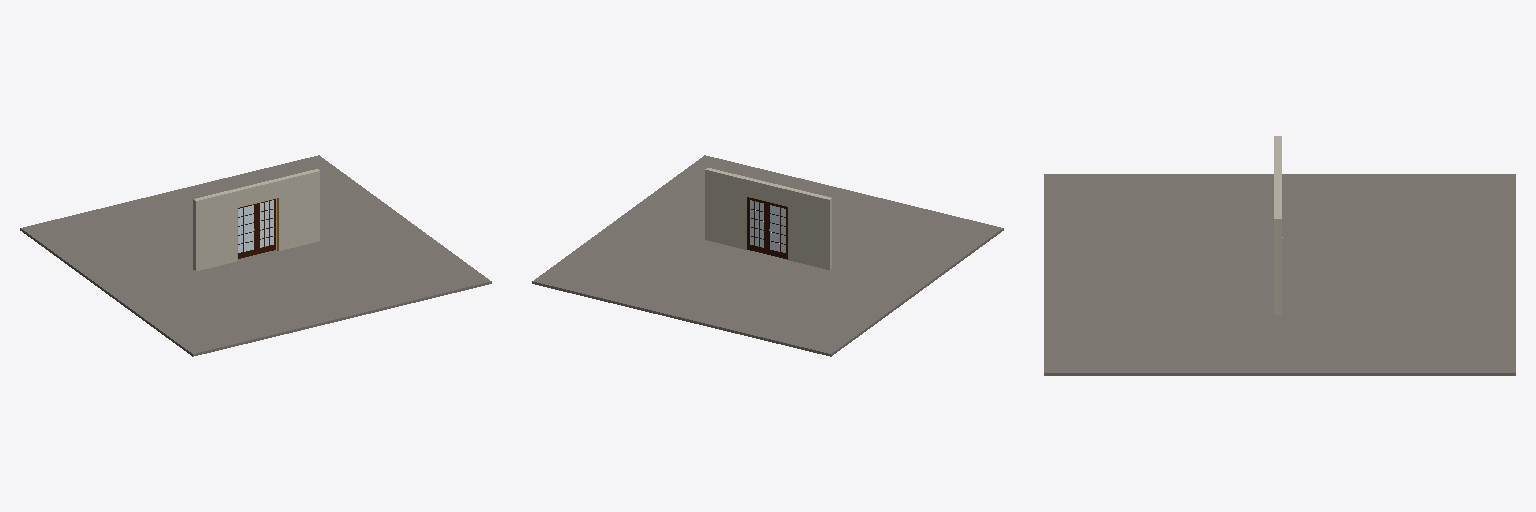
URDF robot description (db0604_swing_double_minimal):
<?xml version="1.0" ?>
<robot xmlns:doorbench="https://github.com/adamraudonis/DoorBench/schema/urdf-ext" name="db0604_swing_double_minimal">
  <link name="world_env">
    <visual name="floor_vis">
      <origin xyz="0 0 -0.05" rpy="0 0 0"/>
      <geometry>
        <box size="12 12 0.1"/>
      </geometry>
      <material name="mat_floor"/>
    </visual>
    <collision name="floor_col">
      <origin xyz="0 0 -0.05" rpy="0 0 0"/>
      <geometry>
        <box size="12 12 0.1"/>
      </geometry>
    </collision>
    <visual name="wall_left_vis">
      <origin xyz="-1.66825 -0.058 1.35" rpy="0 0 0"/>
      <geometry>
        <box size="1.6635 0.2 2.7"/>
      </geometry>
      <material name="mat_wall"/>
    </visual>
    <collision name="wall_left_col">
      <origin xyz="-1.66825 -0.058 1.35" rpy="0 0 0"/>
      <geometry>
        <box size="1.6635 0.2 2.7"/>
      </geometry>
    </collision>
    <visual name="wall_right_vis">
      <origin xyz="1.66825 -0.058 1.35" rpy="0 0 0"/>
      <geometry>
        <box size="1.6635 0.2 2.7"/>
      </geometry>
      <material name="mat_wall"/>
    </visual>
    <collision name="wall_right_col">
      <origin xyz="1.66825 -0.058 1.35" rpy="0 0 0"/>
      <geometry>
        <box size="1.6635 0.2 2.7"/>
      </geometry>
    </collision>
    <visual name="wall_header_vis">
      <origin xyz="0 -0.058 2.397" rpy="0 0 0"/>
      <geometry>
        <box size="1.673 0.2 0.606"/>
      </geometry>
      <material name="mat_wall"/>
    </visual>
    <collision name="wall_header_col">
      <origin xyz="0 -0.058 2.397" rpy="0 0 0"/>
      <geometry>
        <box size="1.673 0.2 0.606"/>
      </geometry>
    </collision>
    <visual name="jamb_l_vis">
      <origin xyz="-0.827 -0.058 1.0225" rpy="0 0 0"/>
      <geometry>
        <box size="0.019 0.2 2.045"/>
      </geometry>
      <material name="mat_frame"/>
    </visual>
    <collision name="jamb_l_col">
      <origin xyz="-0.827 -0.058 1.0225" rpy="0 0 0"/>
      <geometry>
        <box size="0.019 0.2 2.045"/>
      </geometry>
    </collision>
    <visual name="jamb_r_vis">
      <origin xyz="0.827 -0.058 1.0225" rpy="0 0 0"/>
      <geometry>
        <box size="0.019 0.2 2.045"/>
      </geometry>
      <material name="mat_frame"/>
    </visual>
    <collision name="jamb_r_col">
      <origin xyz="0.827 -0.058 1.0225" rpy="0 0 0"/>
      <geometry>
        <box size="0.019 0.2 2.045"/>
      </geometry>
    </collision>
    <visual name="jamb_head_vis">
      <origin xyz="0 -0.058 2.0545" rpy="0 0 0"/>
      <geometry>
        <box size="1.673 0.2 0.019"/>
      </geometry>
      <material name="mat_frame"/>
    </visual>
    <collision name="jamb_head_col">
      <origin xyz="0 -0.058 2.0545" rpy="0 0 0"/>
      <geometry>
        <box size="1.673 0.2 0.019"/>
      </geometry>
    </collision>
    <visual name="head_stud_vis">
      <origin xyz="0 -0.058 2.079" rpy="0 0 0"/>
      <geometry>
        <box size="1.673 0.2 0.03"/>
      </geometry>
      <material name="mat_wall"/>
    </visual>
    <collision name="head_stud_col">
      <origin xyz="0 -0.058 2.079" rpy="0 0 0"/>
      <geometry>
        <box size="1.673 0.2 0.03"/>
      </geometry>
    </collision>
    <visual name="stop_l_vis">
      <origin xyz="-0.8025 -0.0285 1.0225" rpy="0 0 0"/>
      <geometry>
        <box size="0.03 0.012 2.045"/>
      </geometry>
      <material name="mat_frame"/>
    </visual>
    <collision name="stop_l_col">
      <origin xyz="-0.8025 -0.0285 1.0225" rpy="0 0 0"/>
      <geometry>
        <box size="0.03 0.012 2.045"/>
      </geometry>
    </collision>
    <visual name="stop_r_vis">
      <origin xyz="0.8025 -0.0285 1.0225" rpy="0 0 0"/>
      <geometry>
        <box size="0.03 0.012 2.045"/>
      </geometry>
      <material name="mat_frame"/>
    </visual>
    <collision name="stop_r_col">
      <origin xyz="0.8025 -0.0285 1.0225" rpy="0 0 0"/>
      <geometry>
        <box size="0.03 0.012 2.045"/>
      </geometry>
    </collision>
    <visual name="stop_head_vis">
      <origin xyz="0 -0.0285 2.03" rpy="0 0 0"/>
      <geometry>
        <box size="1.635 0.012 0.03"/>
      </geometry>
      <material name="mat_frame"/>
    </visual>
    <collision name="stop_head_col">
      <origin xyz="0 -0.0285 2.03" rpy="0 0 0"/>
      <geometry>
        <box size="1.635 0.012 0.03"/>
      </geometry>
    </collision>
  </link>
  <link name="leaf_a">
    <inertial>
      <origin xyz="0.4065 -0.029 1.025131" rpy="0 0 0"/>
      <mass value="33.856412"/>
      <inertia ixx="11.648372587" ixy="0" ixz="0" iyy="13.50633089" iyz="0" izz="1.868884374"/>
    </inertial>
    <visual name="leaf_a_slab_vis">
      <origin xyz="0.4065 -0.029 1.025" rpy="0 0 0"/>
      <geometry>
        <box size="0.813 0.044 2.032"/>
      </geometry>
      <material name="mat_leaf_a"/>
    </visual>
    <collision name="leaf_a_slab_col">
      <origin xyz="0.4065 -0.029 1.025" rpy="0 0 0"/>
      <geometry>
        <box size="0.813 0.044 2.032"/>
      </geometry>
    </collision>
    <visual name="leaf_a_glass_0_vis">
      <origin xyz="0.1855 -0.029 0.391208" rpy="0 0 0"/>
      <geometry>
        <box size="0.191 0.0456 0.317376"/>
      </geometry>
      <material name="mat_glass"/>
    </visual>
    <visual name="leaf_a_glass_1_vis">
      <origin xyz="0.4065 -0.029 0.391208" rpy="0 0 0"/>
      <geometry>
        <box size="0.191 0.0456 0.317376"/>
      </geometry>
      <material name="mat_glass"/>
    </visual>
    <visual name="leaf_a_glass_2_vis">
      <origin xyz="0.6275 -0.029 0.391208" rpy="0 0 0"/>
      <geometry>
        <box size="0.191 0.0456 0.317376"/>
      </geometry>
      <material name="mat_glass"/>
    </visual>
    <visual name="leaf_a_glass_3_vis">
      <origin xyz="0.1855 -0.029 0.738584" rpy="0 0 0"/>
      <geometry>
        <box size="0.191 0.0456 0.317376"/>
      </geometry>
      <material name="mat_glass"/>
    </visual>
    <visual name="leaf_a_glass_4_vis">
      <origin xyz="0.4065 -0.029 0.738584" rpy="0 0 0"/>
      <geometry>
        <box size="0.191 0.0456 0.317376"/>
      </geometry>
      <material name="mat_glass"/>
    </visual>
    <visual name="leaf_a_glass_5_vis">
      <origin xyz="0.6275 -0.029 0.738584" rpy="0 0 0"/>
      <geometry>
        <box size="0.191 0.0456 0.317376"/>
      </geometry>
      <material name="mat_glass"/>
    </visual>
    <visual name="leaf_a_glass_6_vis">
      <origin xyz="0.1855 -0.029 1.08596" rpy="0 0 0"/>
      <geometry>
        <box size="0.191 0.0456 0.317376"/>
      </geometry>
      <material name="mat_glass"/>
    </visual>
    <visual name="leaf_a_glass_7_vis">
      <origin xyz="0.4065 -0.029 1.08596" rpy="0 0 0"/>
      <geometry>
        <box size="0.191 0.0456 0.317376"/>
      </geometry>
      <material name="mat_glass"/>
    </visual>
    <visual name="leaf_a_glass_8_vis">
      <origin xyz="0.6275 -0.029 1.08596" rpy="0 0 0"/>
      <geometry>
        <box size="0.191 0.0456 0.317376"/>
      </geometry>
      <material name="mat_glass"/>
    </visual>
    <visual name="leaf_a_glass_9_vis">
      <origin xyz="0.1855 -0.029 1.433336" rpy="0 0 0"/>
      <geometry>
        <box size="0.191 0.0456 0.317376"/>
      </geometry>
      <material name="mat_glass"/>
    </visual>
    <visual name="leaf_a_glass_10_vis">
      <origin xyz="0.4065 -0.029 1.433336" rpy="0 0 0"/>
      <geometry>
        <box size="0.191 0.0456 0.317376"/>
      </geometry>
      <material name="mat_glass"/>
    </visual>
    <visual name="leaf_a_glass_11_vis">
      <origin xyz="0.6275 -0.029 1.433336" rpy="0 0 0"/>
      <geometry>
        <box size="0.191 0.0456 0.317376"/>
      </geometry>
      <material name="mat_glass"/>
    </visual>
    <visual name="leaf_a_glass_12_vis">
      <origin xyz="0.1855 -0.029 1.780712" rpy="0 0 0"/>
      <geometry>
        <box size="0.191 0.0456 0.317376"/>
      </geometry>
      <material name="mat_glass"/>
    </visual>
    <visual name="leaf_a_glass_13_vis">
      <origin xyz="0.4065 -0.029 1.780712" rpy="0 0 0"/>
      <geometry>
        <box size="0.191 0.0456 0.317376"/>
      </geometry>
      <material name="mat_glass"/>
    </visual>
    <visual name="leaf_a_glass_14_vis">
      <origin xyz="0.6275 -0.029 1.780712" rpy="0 0 0"/>
      <geometry>
        <box size="0.191 0.0456 0.317376"/>
      </geometry>
      <material name="mat_glass"/>
    </visual>
  </link>
  <link name="leaf_a_handle">
    <inertial>
      <origin xyz="-0.030188 0 0" rpy="0 0 0"/>
      <mass value="0.924918"/>
      <inertia ixx="0.003587995" ixy="0" ixz="0" iyy="0.001725188" iyz="0" izz="0.005135939"/>
    </inertial>
    <visual name="leaf_a_handle_lever_n_vis">
      <origin xyz="0 -0.022 0" rpy="1.570796 0 0"/>
      <geometry>
        <mesh filename="../../hardware/lever_9f02b544cf.obj"/>
      </geometry>
      <material name="mat_op_nickel_satin"/>
    </visual>
    <collision name="leaf_a_handle_lever_col_n_col">
      <origin xyz="-0.0625 -0.077 0" rpy="0 -1.570796 0"/>
      <geometry>
        <cylinder radius="0.0095" length="0.106"/>
      </geometry>
    </collision>
    <collision name="leaf_a_handle_hub_col_n_col">
      <origin xyz="0 -0.052 0" rpy="-1.570796 0 0"/>
      <geometry>
        <cylinder radius="0.012" length="0.044"/>
      </geometry>
    </collision>
    <visual name="leaf_a_handle_lever_p_vis">
      <origin xyz="0 0.022 0" rpy="-1.570796 0 0"/>
      <geometry>
        <mesh filename="../../hardware/lever_9f02b544cf.obj"/>
      </geometry>
      <material name="mat_op_nickel_satin"/>
    </visual>
    <collision name="leaf_a_handle_lever_col_p_col">
      <origin xyz="-0.0625 0.077 0" rpy="0 -1.570796 0"/>
      <geometry>
        <cylinder radius="0.0095" length="0.106"/>
      </geometry>
    </collision>
    <collision name="leaf_a_handle_hub_col_p_col">
      <origin xyz="0 0.052 0" rpy="-1.570796 0 0"/>
      <geometry>
        <cylinder radius="0.012" length="0.044"/>
      </geometry>
    </collision>
  </link>
  <link name="leaf_a_latch_bolt">
    <inertial>
      <origin xyz="-0.00865 0 0" rpy="0 0 0"/>
      <mass value="0.041419"/>
      <inertia ixx="0.000000798" ixy="0" ixz="0" iyy="0.000005598" iyz="0" izz="0.000005598"/>
    </inertial>
    <visual name="leaf_a_latch_bolt_capsule_vis">
      <origin xyz="-0.00865 0 0" rpy="0 1.570796 0"/>
      <geometry>
        <cylinder radius="0.00635" length="0.03"/>
      </geometry>
      <material name="mat_bolt"/>
    </visual>
    <collision name="leaf_a_latch_bolt_capsule_col">
      <origin xyz="-0.00865 0 0" rpy="0 1.570796 0"/>
      <geometry>
        <cylinder radius="0.00635" length="0.03"/>
      </geometry>
    </collision>
  </link>
  <link name="leaf_b">
    <inertial>
      <origin xyz="-0.376614 -0.029 1.025117" rpy="0 0 0"/>
      <mass value="32.965187"/>
      <inertia ixx="11.342380913" ixy="0.000001265" ixz="-0.000002932" iyy="12.894652978" iyz="0.000000188" izz="1.562910503"/>
    </inertial>
    <visual name="leaf_b_edge_965_wall_n_vis">
      <origin xyz="-0.783 -0.043925 0.965" rpy="0 0 0"/>
      <geometry>
        <box size="0.06 0.01415 0.0334"/>
      </geometry>
      <material name="mat_leaf_b"/>
    </visual>
    <collision name="leaf_b_edge_965_wall_n_col">
      <origin xyz="-0.783 -0.043925 0.965" rpy="0 0 0"/>
      <geometry>
        <box size="0.06 0.01415 0.0334"/>
      </geometry>
    </collision>
    <visual name="leaf_b_edge_965_wall_p_vis">
      <origin xyz="-0.783 -0.01315 0.965" rpy="0 0 0"/>
      <geometry>
        <box size="0.06 0.016 0.0334"/>
      </geometry>
      <material name="mat_leaf_b"/>
    </visual>
    <collision name="leaf_b_edge_965_wall_p_col">
      <origin xyz="-0.783 -0.01315 0.965" rpy="0 0 0"/>
      <geometry>
        <box size="0.06 0.016 0.0334"/>
      </geometry>
    </collision>
    <visual name="leaf_b_edge_965_ramp_vis">
      <origin xyz="-0.778861 -0.002612 0.965" rpy="0 0 -0.428384"/>
      <geometry>
        <box size="0.06 0.03298 0.0334"/>
      </geometry>
      <material name="mat_leaf_b"/>
    </visual>
    <collision name="leaf_b_edge_965_ramp_col">
      <origin xyz="-0.778861 -0.002612 0.965" rpy="0 0 -0.428384"/>
      <geometry>
        <box size="0.06 0.03298 0.0334"/>
      </geometry>
    </collision>
    <visual name="leaf_b_edge_965_back_vis">
      <origin xyz="-0.77465 -0.029 0.965" rpy="0 0 0"/>
      <geometry>
        <box size="0.0433 0.0157 0.0334"/>
      </geometry>
      <material name="mat_leaf_b"/>
    </visual>
    <collision name="leaf_b_edge_965_back_col">
      <origin xyz="-0.77465 -0.029 0.965" rpy="0 0 0"/>
      <geometry>
        <box size="0.0433 0.0157 0.0334"/>
      </geometry>
    </collision>
    <visual name="leaf_b_edge_seg_0_vis">
      <origin xyz="-0.783 -0.029 0.47865" rpy="0 0 0"/>
      <geometry>
        <box size="0.06 0.044 0.9393"/>
      </geometry>
      <material name="mat_leaf_b"/>
    </visual>
    <collision name="leaf_b_edge_seg_0_col">
      <origin xyz="-0.783 -0.029 0.47865" rpy="0 0 0"/>
      <geometry>
        <box size="0.06 0.044 0.9393"/>
      </geometry>
    </collision>
    <visual name="leaf_b_edge_seg_1_vis">
      <origin xyz="-0.783 -0.029 1.51135" rpy="0 0 0"/>
      <geometry>
        <box size="0.06 0.044 1.0593"/>
      </geometry>
      <material name="mat_leaf_b"/>
    </visual>
    <collision name="leaf_b_edge_seg_1_col">
      <origin xyz="-0.783 -0.029 1.51135" rpy="0 0 0"/>
      <geometry>
        <box size="0.06 0.044 1.0593"/>
      </geometry>
    </collision>
    <visual name="leaf_b_slab_vis">
      <origin xyz="-0.3765 -0.029 1.025" rpy="0 0 0"/>
      <geometry>
        <box size="0.753 0.044 2.032"/>
      </geometry>
      <material name="mat_leaf_b"/>
    </visual>
    <collision name="leaf_b_slab_col">
      <origin xyz="-0.3765 -0.029 1.025" rpy="0 0 0"/>
      <geometry>
        <box size="0.753 0.044 2.032"/>
      </geometry>
    </collision>
    <visual name="leaf_b_glass_0_vis">
      <origin xyz="-0.1755 -0.029 0.391208" rpy="0 0 0"/>
      <geometry>
        <box size="0.171 0.0456 0.317376"/>
      </geometry>
      <material name="mat_glass"/>
    </visual>
    <visual name="leaf_b_glass_1_vis">
      <origin xyz="-0.3765 -0.029 0.391208" rpy="0 0 0"/>
      <geometry>
        <box size="0.171 0.0456 0.317376"/>
      </geometry>
      <material name="mat_glass"/>
    </visual>
    <visual name="leaf_b_glass_2_vis">
      <origin xyz="-0.5775 -0.029 0.391208" rpy="0 0 0"/>
      <geometry>
        <box size="0.171 0.0456 0.317376"/>
      </geometry>
      <material name="mat_glass"/>
    </visual>
    <visual name="leaf_b_glass_3_vis">
      <origin xyz="-0.1755 -0.029 0.738584" rpy="0 0 0"/>
      <geometry>
        <box size="0.171 0.0456 0.317376"/>
      </geometry>
      <material name="mat_glass"/>
    </visual>
    <visual name="leaf_b_glass_4_vis">
      <origin xyz="-0.3765 -0.029 0.738584" rpy="0 0 0"/>
      <geometry>
        <box size="0.171 0.0456 0.317376"/>
      </geometry>
      <material name="mat_glass"/>
    </visual>
    <visual name="leaf_b_glass_5_vis">
      <origin xyz="-0.5775 -0.029 0.738584" rpy="0 0 0"/>
      <geometry>
        <box size="0.171 0.0456 0.317376"/>
      </geometry>
      <material name="mat_glass"/>
    </visual>
    <visual name="leaf_b_glass_6_vis">
      <origin xyz="-0.1755 -0.029 1.08596" rpy="0 0 0"/>
      <geometry>
        <box size="0.171 0.0456 0.317376"/>
      </geometry>
      <material name="mat_glass"/>
    </visual>
    <visual name="leaf_b_glass_7_vis">
      <origin xyz="-0.3765 -0.029 1.08596" rpy="0 0 0"/>
      <geometry>
        <box size="0.171 0.0456 0.317376"/>
      </geometry>
      <material name="mat_glass"/>
    </visual>
    <visual name="leaf_b_glass_8_vis">
      <origin xyz="-0.5775 -0.029 1.08596" rpy="0 0 0"/>
      <geometry>
        <box size="0.171 0.0456 0.317376"/>
      </geometry>
      <material name="mat_glass"/>
    </visual>
    <visual name="leaf_b_glass_9_vis">
      <origin xyz="-0.1755 -0.029 1.433336" rpy="0 0 0"/>
      <geometry>
        <box size="0.171 0.0456 0.317376"/>
      </geometry>
      <material name="mat_glass"/>
    </visual>
    <visual name="leaf_b_glass_10_vis">
      <origin xyz="-0.3765 -0.029 1.433336" rpy="0 0 0"/>
      <geometry>
        <box size="0.171 0.0456 0.317376"/>
      </geometry>
      <material name="mat_glass"/>
    </visual>
    <visual name="leaf_b_glass_11_vis">
      <origin xyz="-0.5775 -0.029 1.433336" rpy="0 0 0"/>
      <geometry>
        <box size="0.171 0.0456 0.317376"/>
      </geometry>
      <material name="mat_glass"/>
    </visual>
    <visual name="leaf_b_glass_12_vis">
      <origin xyz="-0.1755 -0.029 1.780712" rpy="0 0 0"/>
      <geometry>
        <box size="0.171 0.0456 0.317376"/>
      </geometry>
      <material name="mat_glass"/>
    </visual>
    <visual name="leaf_b_glass_13_vis">
      <origin xyz="-0.3765 -0.029 1.780712" rpy="0 0 0"/>
      <geometry>
        <box size="0.171 0.0456 0.317376"/>
      </geometry>
      <material name="mat_glass"/>
    </visual>
    <visual name="leaf_b_glass_14_vis">
      <origin xyz="-0.5775 -0.029 1.780712" rpy="0 0 0"/>
      <geometry>
        <box size="0.171 0.0456 0.317376"/>
      </geometry>
      <material name="mat_glass"/>
    </visual>
  </link>
  <joint name="leaf_a_hinge" type="revolute">
    <origin xyz="-0.8145 0.029 0" rpy="0 0 0"/>
    <parent link="world_env"/>
    <child link="leaf_a"/>
    <axis xyz="0 0 1"/>
    <limit lower="0" upper="1.919862" effort="2000" velocity="10"/>
    <dynamics damping="0.210326" friction="0.889302"/>
    <doorbench:closer damping_closing="0" damping_opening="0" backcheck_angle="0" backcheck_damping="0"/>
  </joint>
  <joint name="leaf_a_handle_hinge" type="revolute">
    <origin xyz="0.743 -0.029 0.965" rpy="0 0 0"/>
    <parent link="leaf_a"/>
    <child link="leaf_a_handle"/>
    <axis xyz="0 -1 0"/>
    <limit lower="0" upper="0.96" effort="2000" velocity="10"/>
    <dynamics damping="0.245624" friction="0.048"/>
    <doorbench:spring stiffness="1.2" springref="-0.458333" note="tau = -stiffness*(q - springref); not native URDF"/>
  </joint>
  <joint name="leaf_a_latch_bolt_slide" type="prismatic">
    <origin xyz="0.813 -0.029 0.965" rpy="0 0 0"/>
    <parent link="leaf_a"/>
    <child link="leaf_a_latch_bolt"/>
    <axis xyz="-1 0 0"/>
    <limit lower="0" upper="0.0127" effort="5000" velocity="10"/>
    <dynamics damping="2" friction="0.3"/>
    <doorbench:spring stiffness="300" springref="-0.008333" note="tau = -stiffness*(q - springref); not native URDF"/>
    <mimic joint="leaf_a_handle_hinge" multiplier="0.013956" offset="0"/>
    <doorbench:coupling one_sided="true" note="MJCF uses a one-sided tendon (bolt may retract further, e.g. riding over the strike lip); mimic is bilateral"/>
  </joint>
  <joint name="leaf_b_hinge" type="revolute">
    <origin xyz="0.8145 0.029 0" rpy="0 0 0"/>
    <parent link="world_env"/>
    <child link="leaf_b"/>
    <axis xyz="0 0 -1"/>
    <limit lower="0" upper="0.001" effort="2000" velocity="10"/>
    <dynamics damping="0.210326" friction="0.889302"/>
    <doorbench:closer damping_closing="0" damping_opening="0" backcheck_angle="0" backcheck_damping="0"/>
    <doorbench:note text="inactive leaf held by flush bolts; set range to free it"/>
  </joint>
  <material name="mat_bolt">
    <color rgba="0.85 0.66 0.3 1"/>
  </material>
  <material name="mat_floor">
    <color rgba="0.55 0.53 0.5 1"/>
  </material>
  <material name="mat_frame">
    <color rgba="0.82 0.7 0.5 1"/>
  </material>
  <material name="mat_glass">
    <color rgba="0.85 0.92 0.95 0.25"/>
  </material>
  <material name="mat_leaf_a">
    <color rgba="0.291 0.147 0.087 1"/>
  </material>
  <material name="mat_leaf_b">
    <color rgba="0.291 0.147 0.087 1"/>
  </material>
  <material name="mat_op_nickel_satin">
    <color rgba="0.72 0.7 0.66 1"/>
  </material>
  <material name="mat_wall">
    <color rgba="0.78 0.76 0.7 1"/>
  </material>
</robot>

--- Render facts (derived) ---
The picture shows the robot from 3 angles, left to right: view 1: azimuth 30°, elevation 25°; view 2: azimuth 150°, elevation 25°; view 3: azimuth 270°, elevation 25°; orthographic projection.
Robot: db0604_swing_double_minimal — 5 links, 4 joints (3 revolute, 1 prismatic); root link world_env; default pose: all joints at 0.
Visible links, largest first — view 1: world_env, leaf_b, leaf_a; view 2: world_env, leaf_b, leaf_a; view 3: world_env.
Link boxes in pixels (<box>): world_env: <box>20,155,491,356</box>; leaf_b: <box>256,199,275,254</box>; leaf_a: <box>238,204,255,258</box>; world_env: <box>532,155,1003,356</box>; leaf_b: <box>747,197,767,254</box>; leaf_a: <box>768,202,787,259</box>; world_env: <box>1044,136,1515,375</box>.
Size in the robot's own frame: 12 by 12 by 2.8 metres.
Meshes: 1 distinct files referenced, 2 mesh visuals loaded (1 OBJ).
